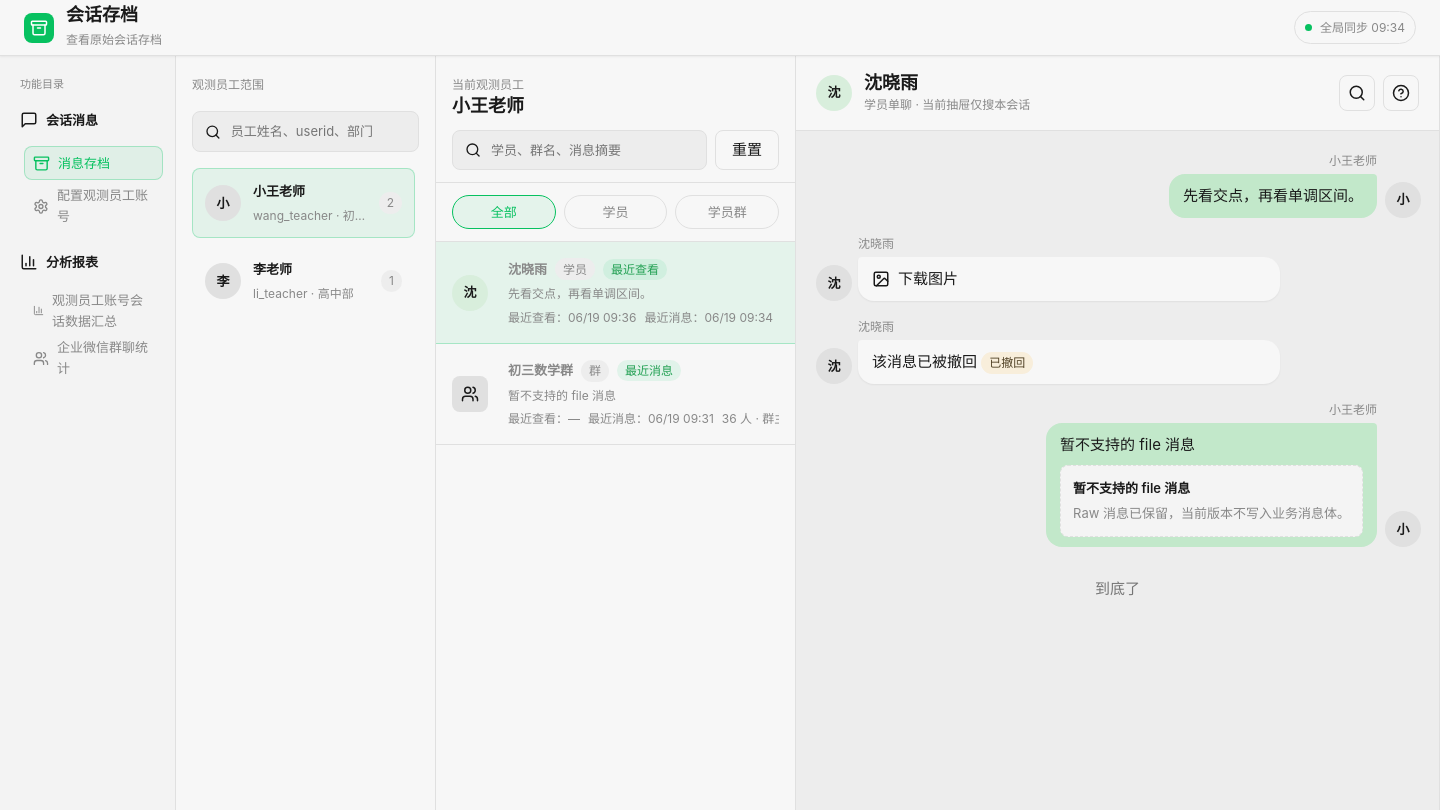
App › opens message search and conversation detail drawers
Click the button named "搜索对话消息".
click(1357, 93)  # box [1339, 75, 1375, 111]
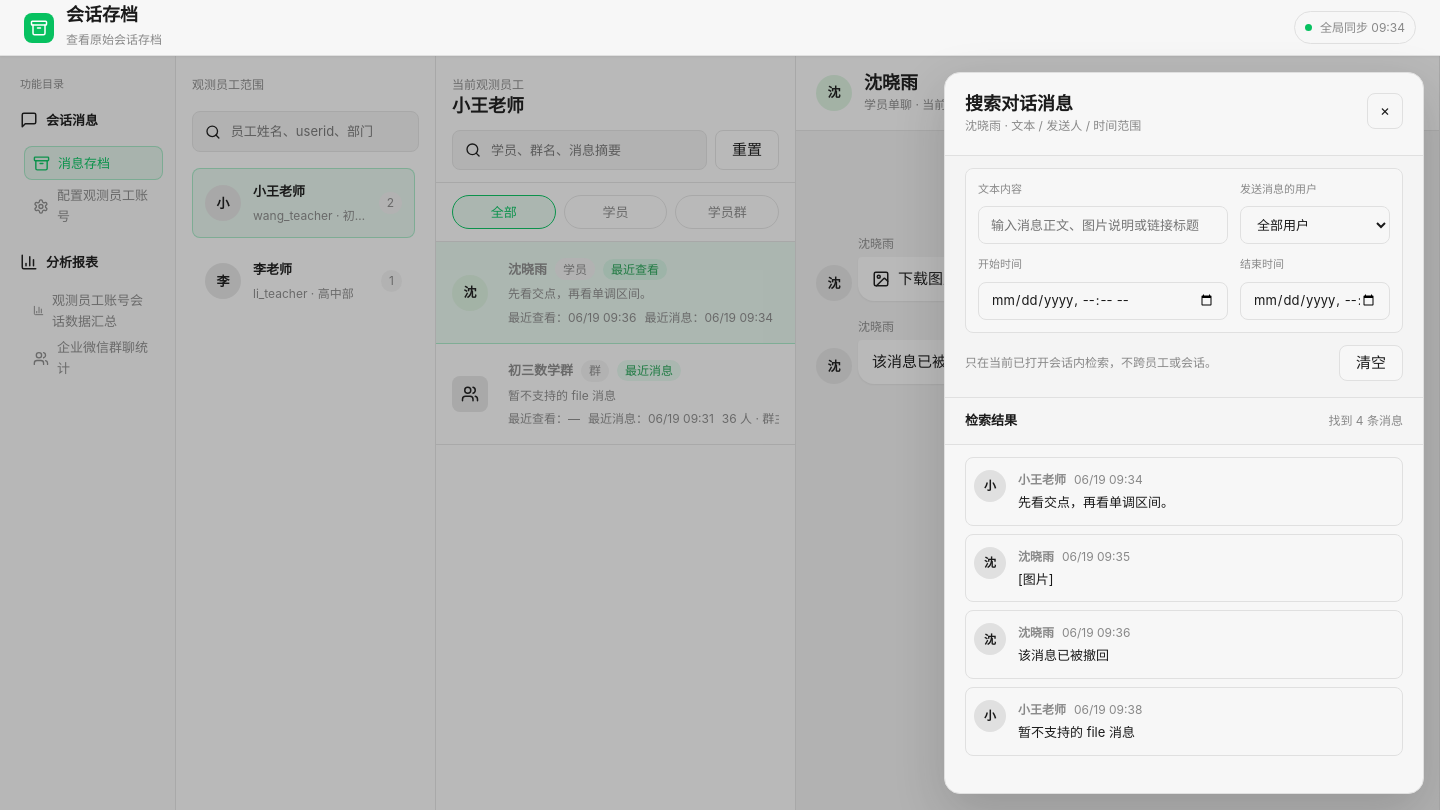
Expected: the heading "搜索对话消息" is shown, [965, 93, 1073, 114]
Expected: the text "只在当前已打开会话内检索，不跨员工或会话。" is shown, [965, 353, 1217, 372]
Click the button named "关闭消息搜索".
click(1385, 111)  # box [1367, 93, 1403, 129]
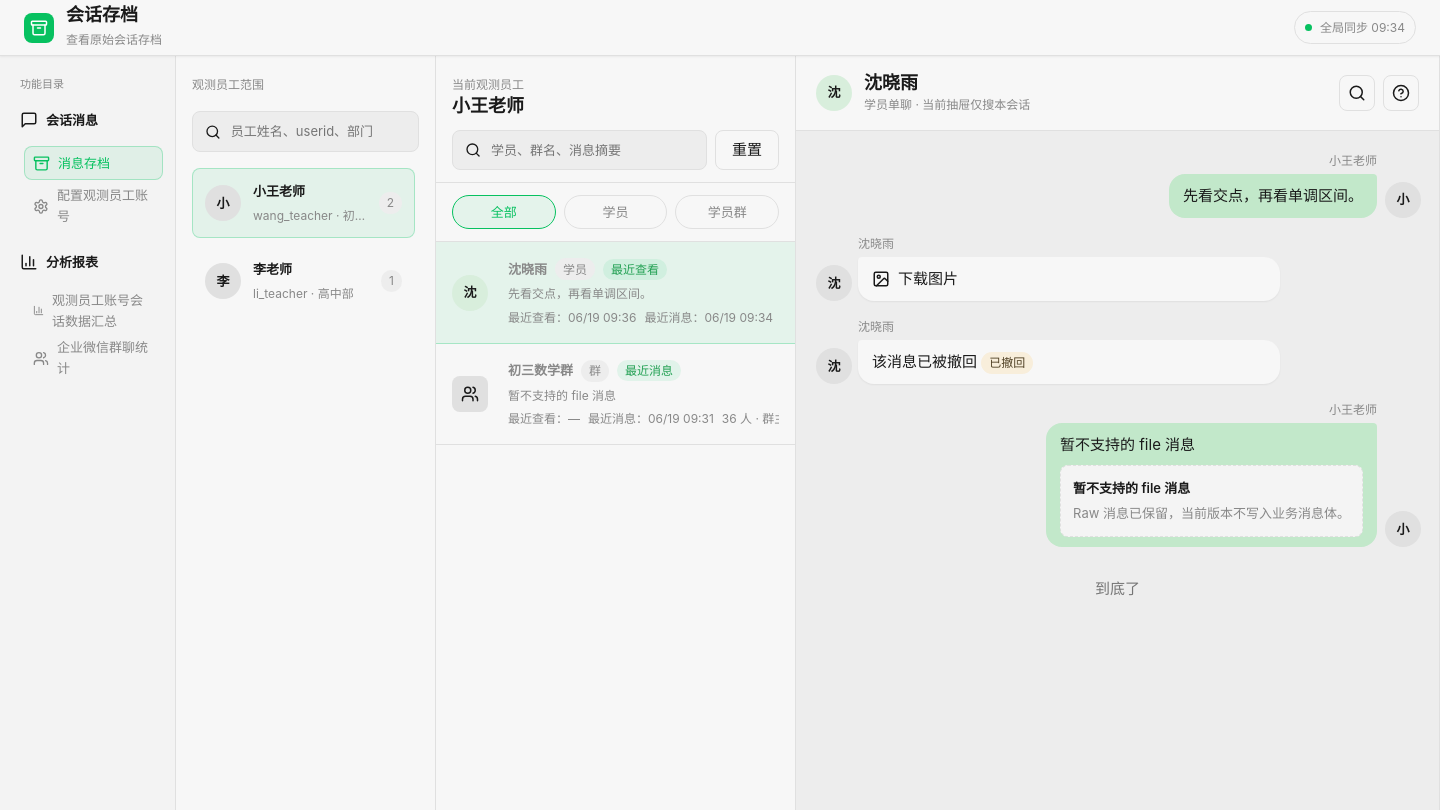
Click the button named "打开会话详情".
click(1401, 93)  # box [1383, 75, 1419, 111]
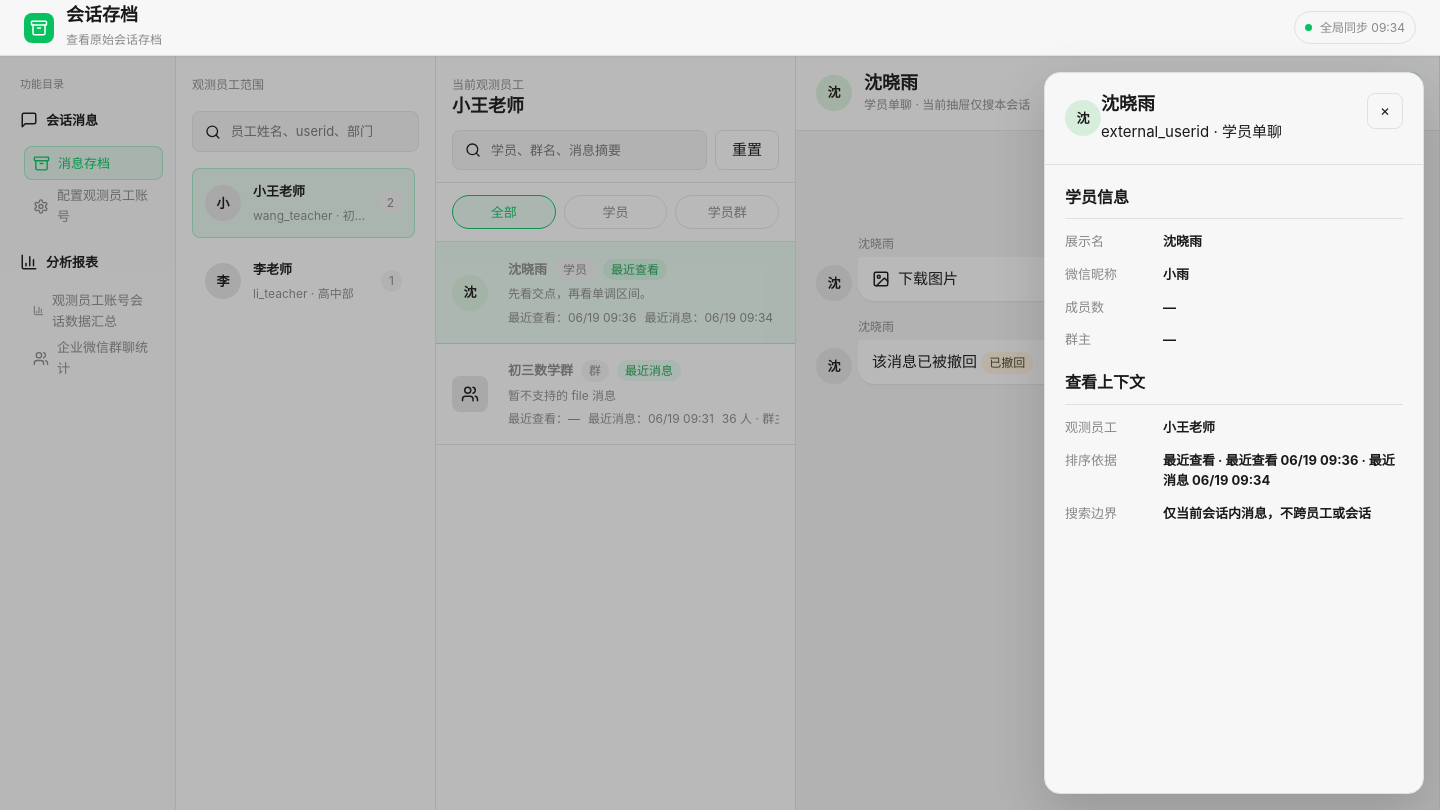
Expected: the dialog "沈晓雨" is shown, [1044, 72, 1424, 794]
Expected: the heading "查看上下文" is shown, [1065, 370, 1403, 405]
